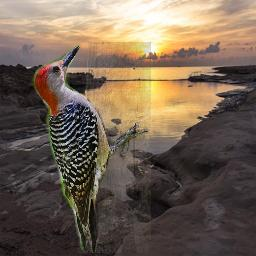Woodpecker: (27, 42, 151, 253)
